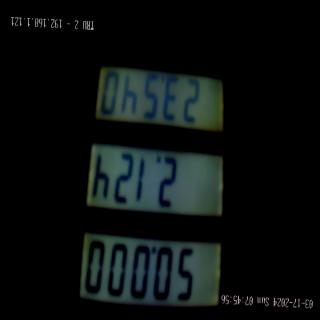screen: (71, 26, 238, 320)
